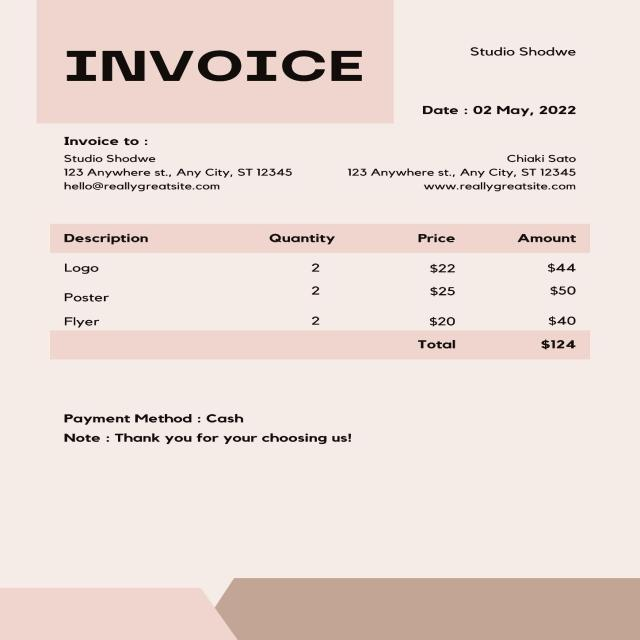paragraph: (54, 128, 304, 194), (52, 407, 376, 453), (44, 43, 380, 87), (336, 146, 596, 194), (402, 334, 582, 356), (411, 99, 589, 121), (459, 42, 585, 62)
table: (50, 225, 587, 330)
